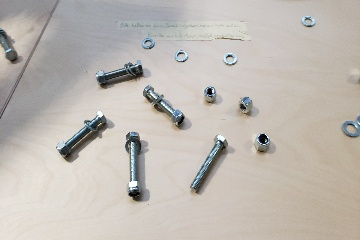Bolt: (188, 131, 229, 194)
FalseAssembly: (54, 110, 110, 159), (122, 128, 151, 203)
FinishedAssembly: (140, 84, 189, 128), (94, 57, 146, 90)
Nut: (253, 131, 274, 154), (202, 85, 222, 105), (236, 96, 255, 114)
Washer: (342, 119, 359, 138), (173, 48, 191, 64), (301, 14, 316, 28), (222, 52, 238, 65), (142, 37, 155, 49)
